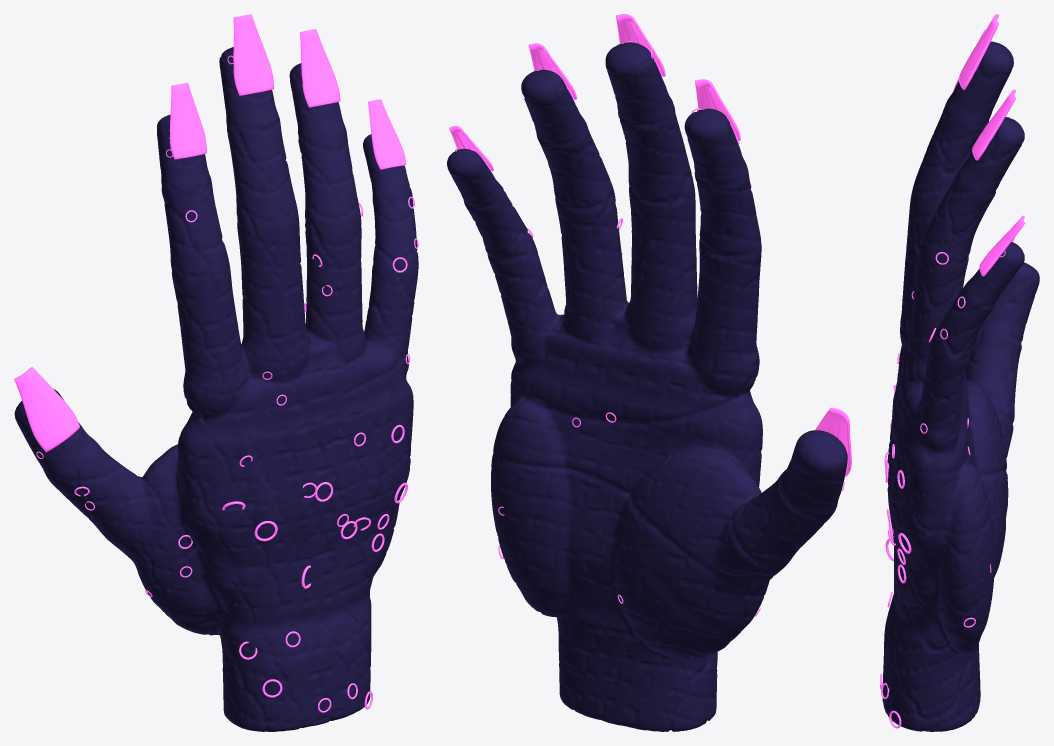
File: family-19.glb
The picture shows the model from 3 angles, left to right: view 1: azimuth 30°, elevation 25°; view 2: azimuth 150°, elevation 25°; view 3: azimuth 270°, elevation 25°; orthographic projection. The views are drawn at different scales.
Visible parts, largest first — view 1: fingers__fingers_sculpt, back_of_hand__back_of_hand_sculpt, wrist__wrist_sculpt, fingertips__fingertips_sculpt, nails__thumb_claw, nails__middle_claw, palm__palm_sculpt, nails__ring_claw, nails__index_claw, nails__pinky_claw, back_of_hand, fingers; view 2: fingers__fingers_sculpt, palm__palm_sculpt, wrist__wrist_sculpt, fingertips__fingertips_sculpt, nails__thumb_claw, nails__middle_claw, nails__index_claw, nails__ring_claw; view 3: fingers__fingers_sculpt, palm__palm_sculpt, wrist__wrist_sculpt, back_of_hand__back_of_hand_sculpt, fingertips__fingertips_sculpt, nails__middle_claw, nails__ring_claw, back_of_hand, nails__pinky_claw, fingers.
Boxes of the visible parts, box(x1,y1,x2,y2) form: fingers__fingers_sculpt: box(43, 107, 418, 610); back_of_hand__back_of_hand_sculpt: box(181, 377, 413, 627); wrist__wrist_sculpt: box(170, 593, 371, 731); fingertips__fingertips_sculpt: box(14, 47, 408, 470); nails__thumb_claw: box(14, 367, 79, 452); nails__middle_claw: box(233, 14, 273, 95); palm__palm_sculpt: box(161, 422, 399, 620); nails__ring_claw: box(300, 29, 340, 107); nails__index_claw: box(169, 82, 206, 159); nails__pinky_claw: box(368, 99, 406, 169); back_of_hand: box(222, 424, 407, 588); fingers: box(74, 196, 418, 597); fingers__fingers_sculpt: box(462, 95, 837, 634); palm__palm_sculpt: box(491, 359, 758, 644); wrist__wrist_sculpt: box(520, 591, 730, 731); fingertips__fingertips_sculpt: box(447, 42, 847, 511); nails__thumb_claw: box(815, 407, 851, 476); nails__middle_claw: box(616, 14, 665, 77); nails__index_claw: box(695, 79, 740, 140); nails__ring_claw: box(528, 43, 577, 100); fingers__fingers_sculpt: box(897, 93, 1023, 515); palm__palm_sculpt: box(934, 374, 1006, 644); wrist__wrist_sculpt: box(882, 593, 980, 731); back_of_hand__back_of_hand_sculpt: box(887, 381, 935, 633); fingertips__fingertips_sculpt: box(952, 41, 1039, 333); nails__middle_claw: box(958, 14, 999, 89); nails__ring_claw: box(972, 89, 1016, 160); back_of_hand: box(884, 385, 911, 583); nails__pinky_claw: box(979, 215, 1025, 276); fingers: box(897, 252, 965, 433).
Size of the model in its own units: 0.1326 by 0.2282 by 0.0486.
Materials: 2 (1 with a texture image).
